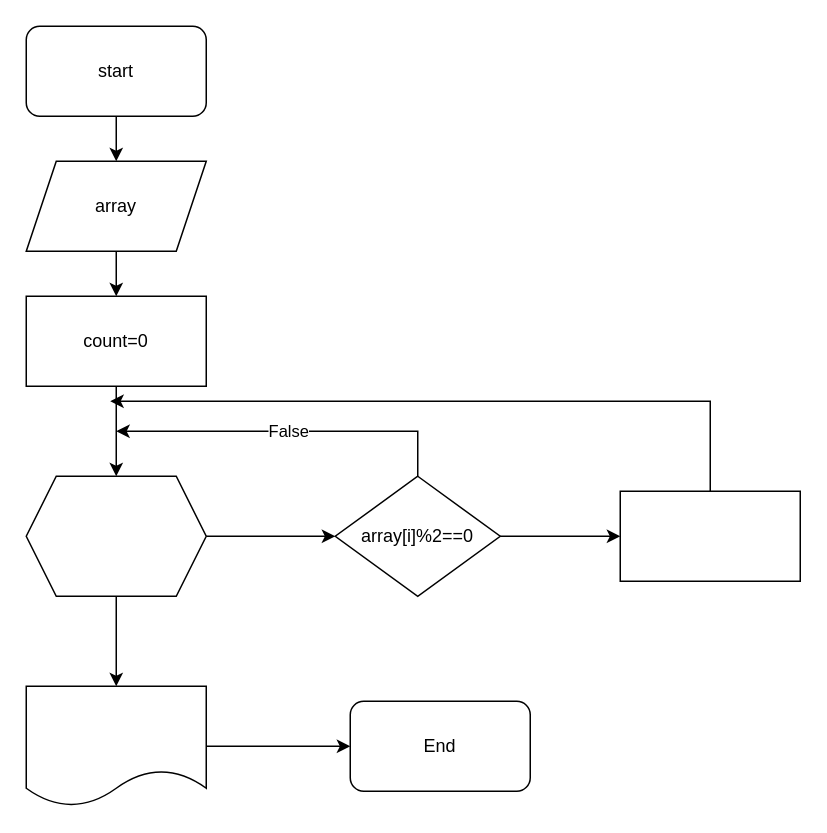
Image size: 827x833. Some labels were removed from this diagram. Here are the shapes that lost their labels. From the top down, the centre of each, then its label:
At [115,535]: "i=0,i<8000,i++".
At [709,535]: "count++".
At [115,745]: "count".
